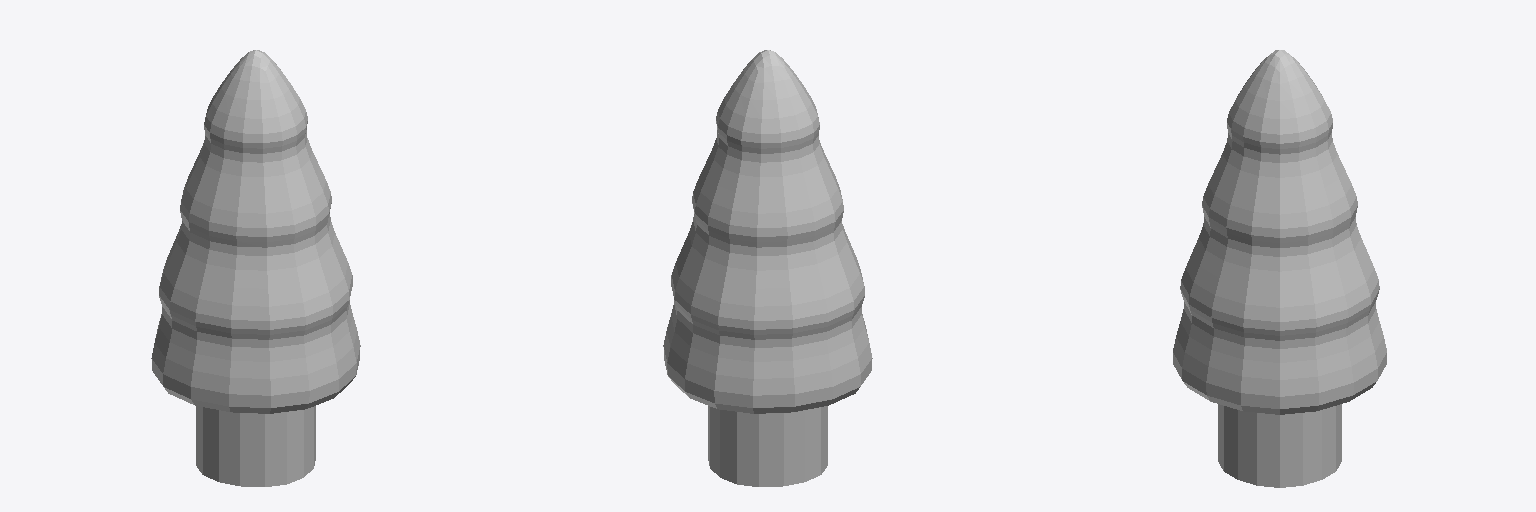
Rendered from tree01.obj.
The picture shows the model from 3 angles: view 1: azimuth 30°, elevation 25°; view 2: azimuth 150°, elevation 25°; view 3: azimuth 270°, elevation 25°; orthographic projection.
Parts seen in each view (by area): view 1: Circle_Circle.002; view 2: Circle_Circle.002; view 3: Circle_Circle.002.
Boxes of the visible parts, x1=… form: Circle_Circle.002: x1=151, y1=50, x2=360, y2=486; Circle_Circle.002: x1=663, y1=50, x2=872, y2=486; Circle_Circle.002: x1=1173, y1=50, x2=1386, y2=487.
Size of the model in its own units: 0.928 by 1.97 by 0.928.